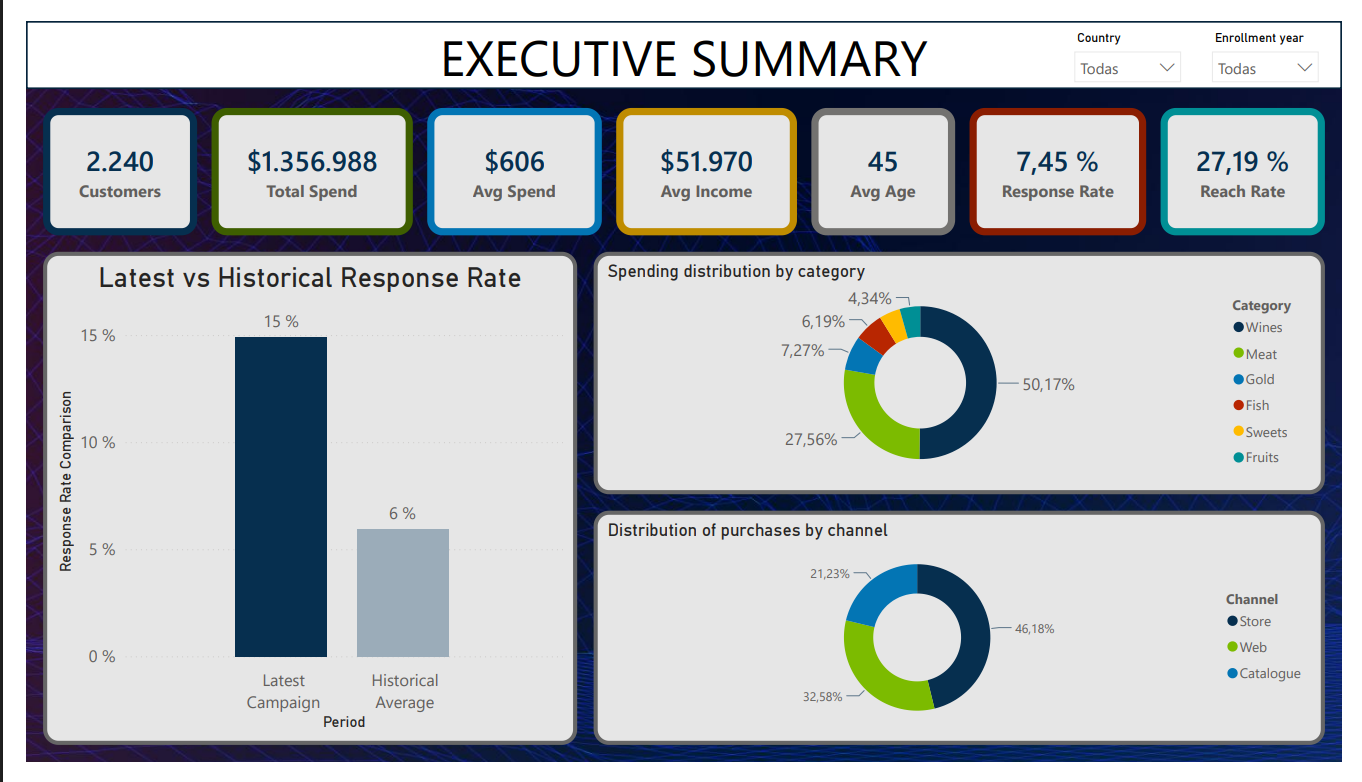

Layout of this report page (visuals, bound fields, positions):
{"tool":"powerbi","page":{"name":"1. Executive Summary","canvas":[1280,720],"ordinal":0},"visuals":[{"type":"cardVisual","fields":{"Data":["_Measures.Customer Count"]},"box":[16,84,150,124],"z":100},{"type":"cardVisual","fields":{"Data":["_Measures.Total Spend"]},"box":[180,84,196,124],"z":200},{"type":"cardVisual","fields":{"Data":["_Measures.Avg Spend per Customer"]},"box":[390,84,170,124],"z":300},{"type":"cardVisual","fields":{"Data":["_Measures.Avg Income"]},"box":[574,84,176,124],"z":400},{"type":"cardVisual","fields":{"Data":["_Measures.Avg Age"]},"box":[764,84,140,124],"z":500},{"type":"cardVisual","fields":{"Data":["_Measures.Response Rate"]},"box":[918,84,172,124],"z":600},{"type":"cardVisual","fields":{"Data":["_Measures.Campaign Reach Rate"]},"box":[1104,84,160,124],"z":700},{"type":"clusteredColumnChart","title":"Latest vs Historical Response Rate","fields":{"Category":["_Chart_ResponseComparison.Period"],"Y":["_Measures.Response Rate Comparison"]},"box":[16,224,520,480],"z":5000},{"type":"donutChart","title":"Spending distribution by category","fields":{"Category":["Fact_Spend.Category"],"Y":["_Measures.% of Total Spend"]},"box":[552,224,712,236],"z":6000},{"type":"donutChart","title":"Distribution of purchases by channel","fields":{"Category":["Fact_Channel.Channel"],"Y":["_Measures.% of Total Purchases"]},"box":[552,476,712,228],"z":7000},{"type":"shape","title":"EXECUTIVE SUMMARY","box":[0,0,1280,65],"z":10000},{"type":"slicer","fields":{"Values":["Dim_Customer.Country"]},"box":[1010,4,124,58],"z":11000},{"type":"slicer","fields":{"Values":["Dim_Date.Year"]},"box":[1144,4,124,58],"z":12000}]}

Visuals, with their boxes in screenshot pixels (x1, y1, x2, y2), scaled from the page's 1280x720 canvas onto the 1362x782 screenshot:
cardVisual - _Measures.Customer Count: left=17, top=91, right=177, bottom=226
cardVisual - _Measures.Total Spend: left=192, top=91, right=400, bottom=226
cardVisual - _Measures.Avg Spend per Customer: left=415, top=91, right=596, bottom=226
cardVisual - _Measures.Avg Income: left=611, top=91, right=798, bottom=226
cardVisual - _Measures.Avg Age: left=813, top=91, right=962, bottom=226
cardVisual - _Measures.Response Rate: left=977, top=91, right=1160, bottom=226
cardVisual - _Measures.Campaign Reach Rate: left=1175, top=91, right=1345, bottom=226
"Latest vs Historical Response Rate" clusteredColumnChart: left=17, top=243, right=570, bottom=765
"Spending distribution by category" donutChart: left=587, top=243, right=1345, bottom=500
"Distribution of purchases by channel" donutChart: left=587, top=517, right=1345, bottom=765
"EXECUTIVE SUMMARY" shape: left=0, top=0, right=1361, bottom=71
slicer - Dim_Customer.Country: left=1075, top=4, right=1207, bottom=67
slicer - Dim_Date.Year: left=1217, top=4, right=1349, bottom=67
